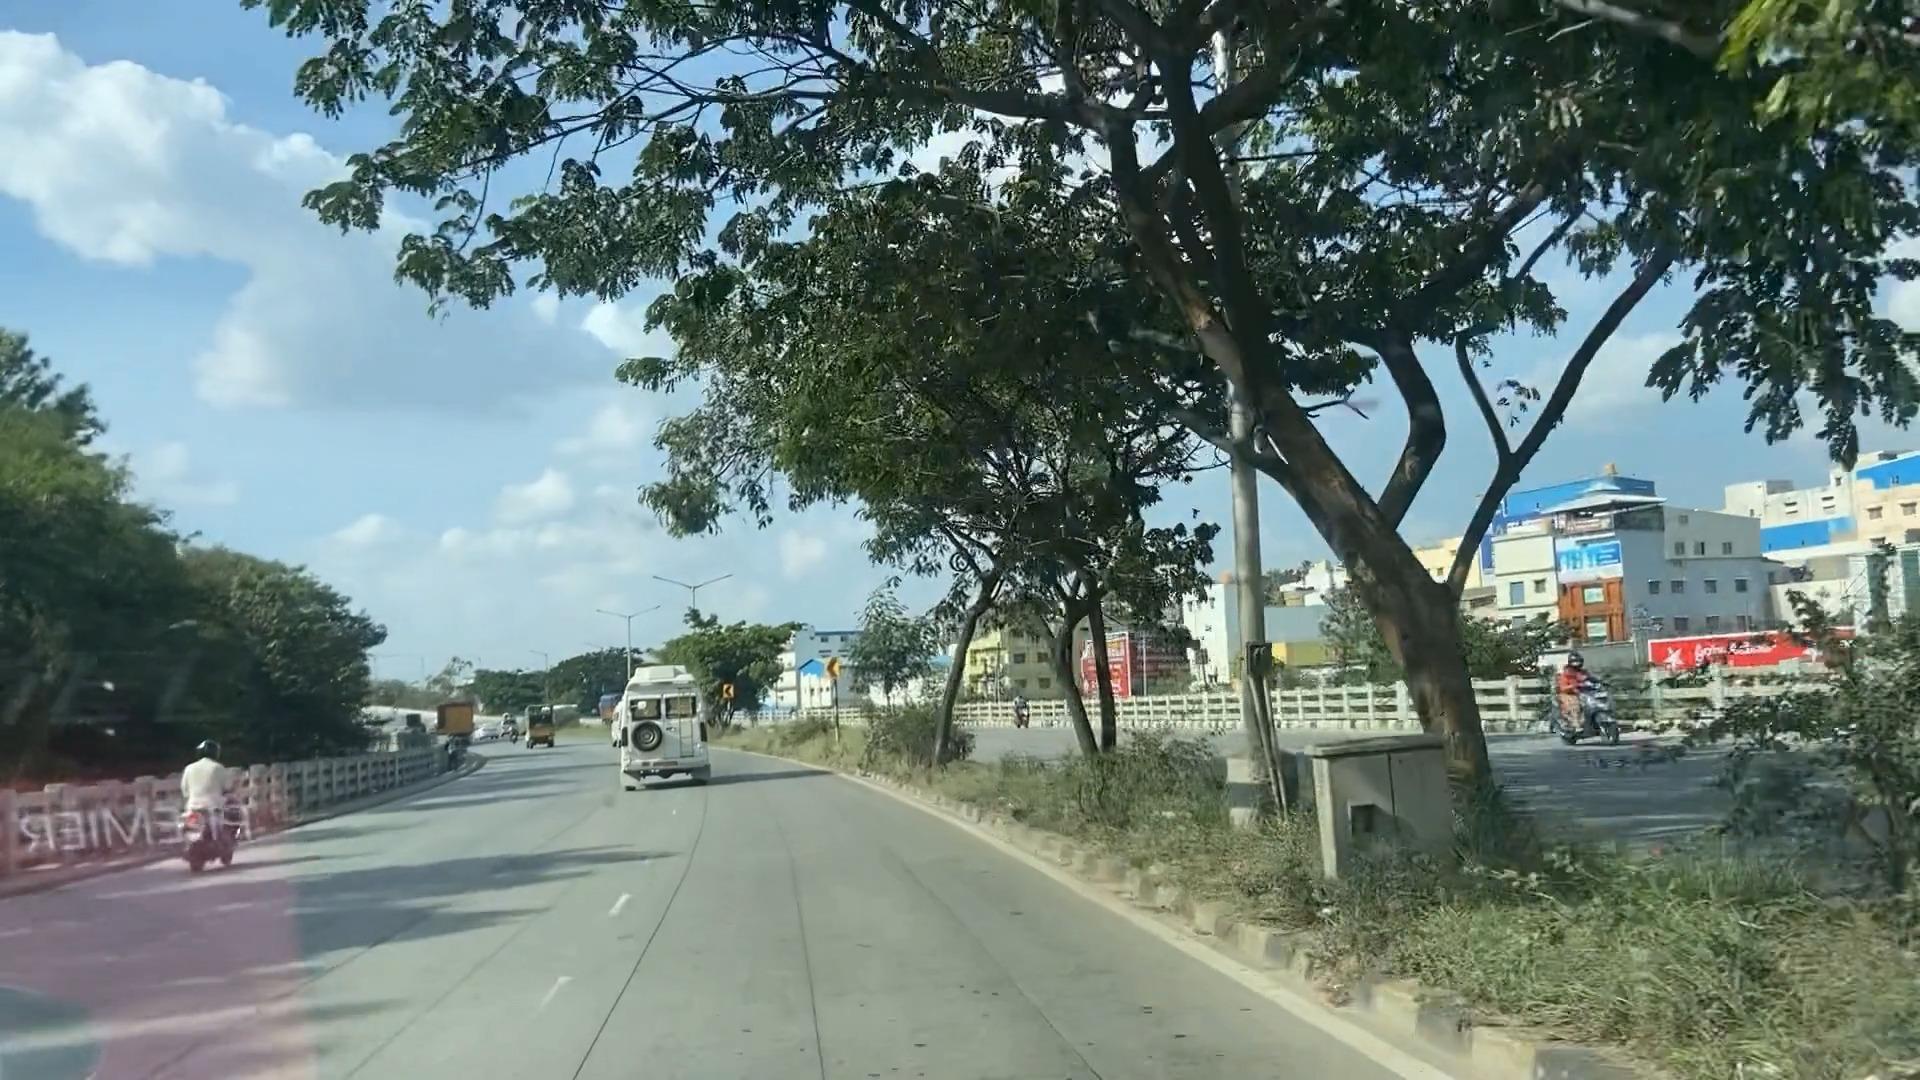HMV: (596, 653, 717, 785)
LMV: (174, 732, 240, 856)
